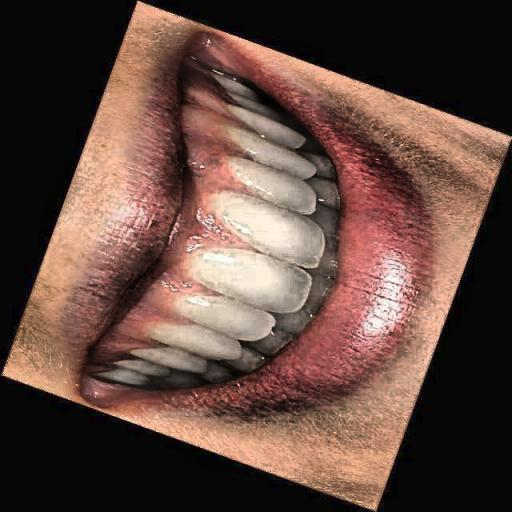Healthy: (99, 48, 412, 389)
